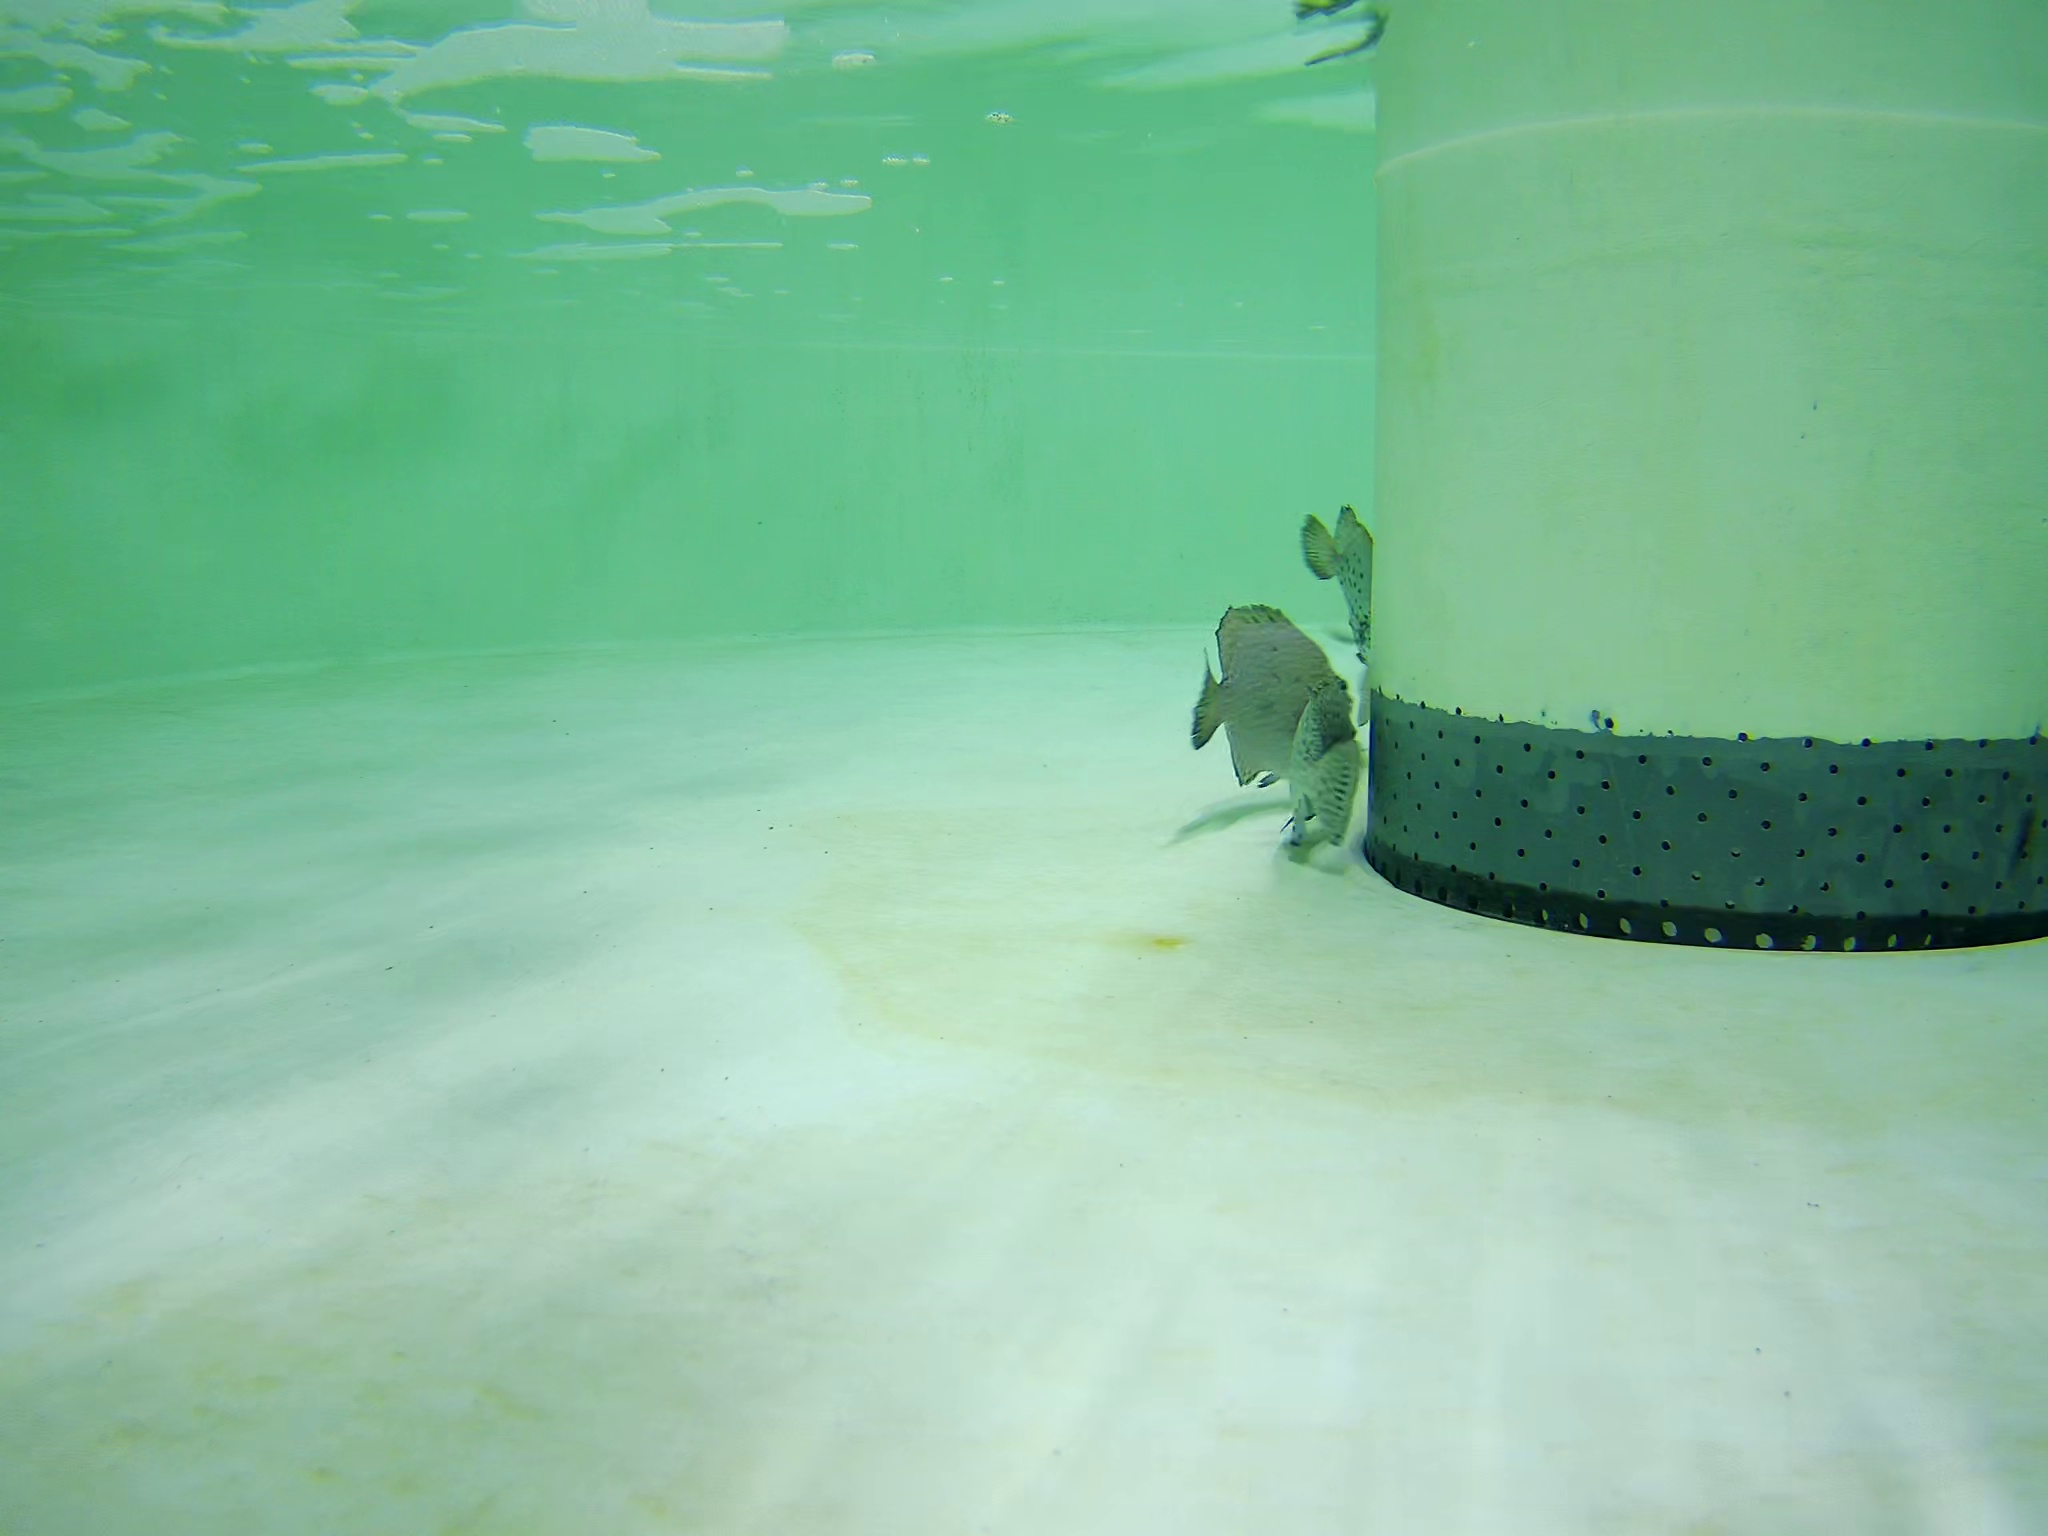fish: (1190, 603, 1347, 786), (1285, 684, 1353, 847), (1306, 499, 1374, 639)
